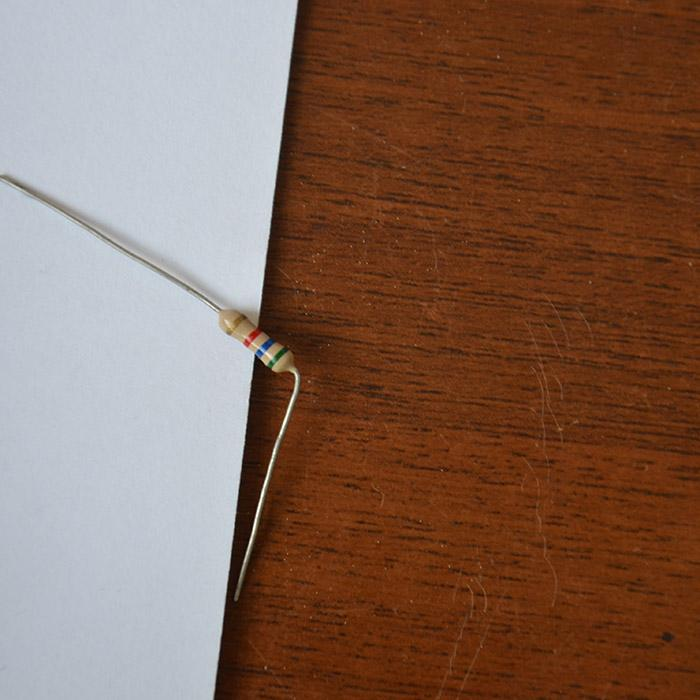resistor: (217, 309, 294, 376)
